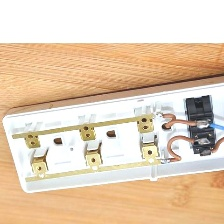three_eye_plug: (0, 70, 224, 196)
